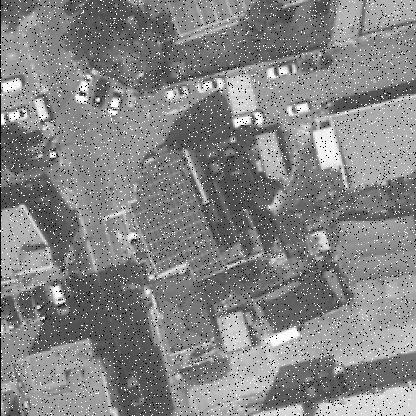solar-pv-panel: (128, 149, 225, 281)
